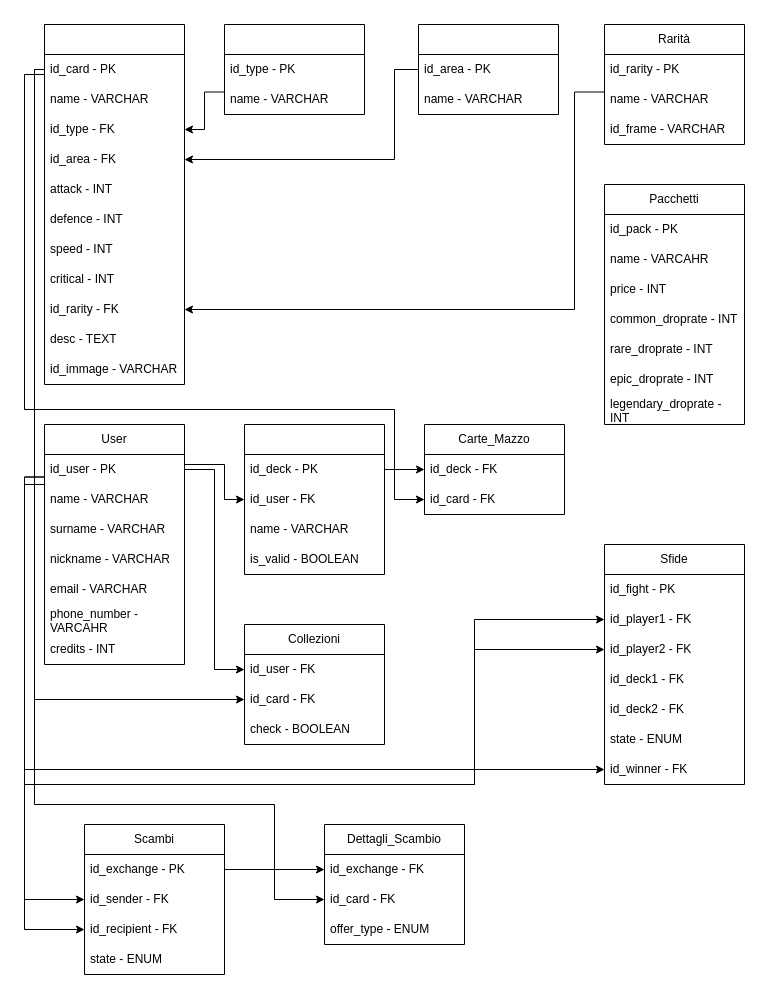
The diagram is 762 pixels wide and 992 high, and some of its shapes have lost their labels. Here are the shapes that lost their labels. From the top down, the box of each, then its label:
(224, 24, 364, 114): Tipi
(418, 24, 558, 114): Aree
(44, 24, 184, 384): Carte
(244, 424, 384, 574): Mazzi
